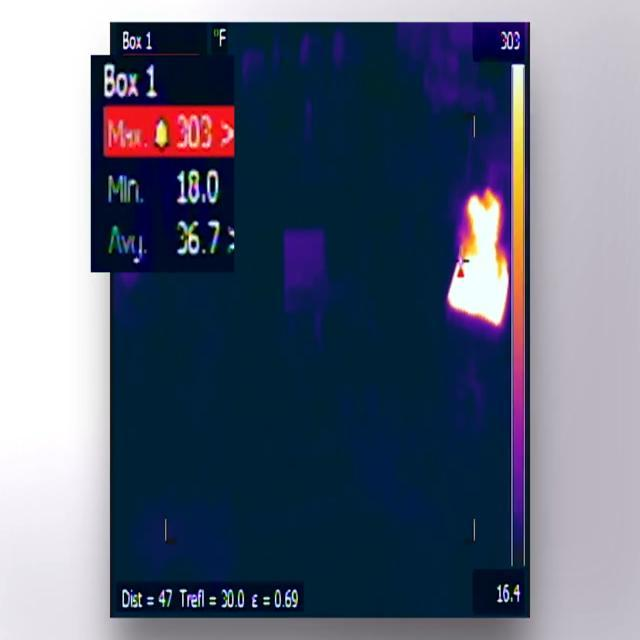fire: (448, 190, 512, 329)
